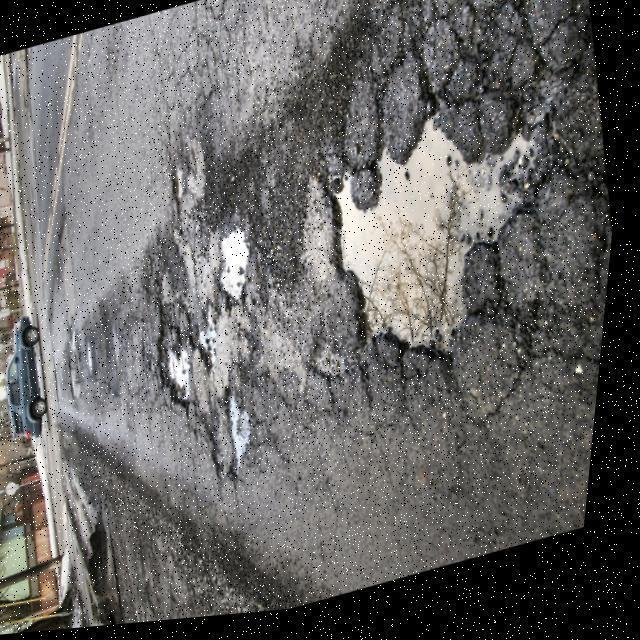Pothole: (336, 121, 534, 349), (220, 229, 249, 299), (229, 395, 251, 473), (165, 348, 192, 402)
